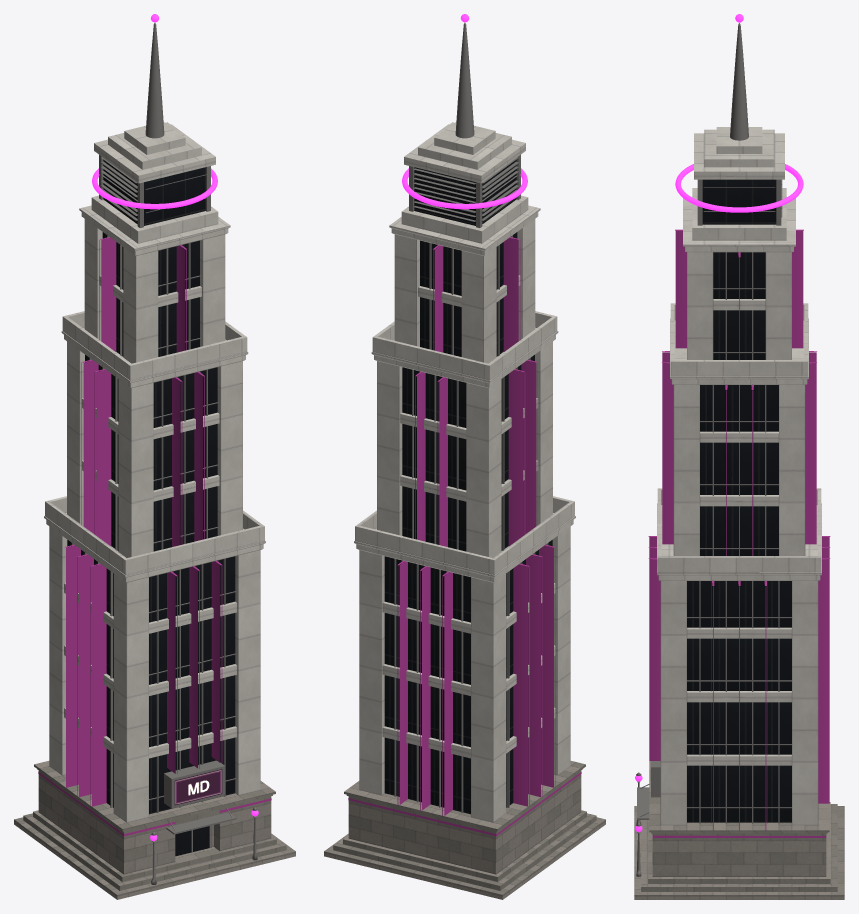
Rendered from s29-metaverse-dao.glb.
3 renders of one model, left to right at view 1: azimuth 30°, elevation 25°; view 2: azimuth 150°, elevation 25°; view 3: azimuth 270°, elevation 25°, orthographic.
Parts seen in each view (by area): view 1: Landmark · Metaverse DAO (Series 29); view 2: Landmark · Metaverse DAO (Series 29); view 3: Landmark · Metaverse DAO (Series 29).
Part boxes in pixels (<box>): Landmark · Metaverse DAO (Series 29): <box>14,14,295,899</box>; Landmark · Metaverse DAO (Series 29): <box>324,14,605,899</box>; Landmark · Metaverse DAO (Series 29): <box>634,14,844,899</box>.
Size of the model in its own units: 12 by 53 by 12.
7 materials, 4 textured.
